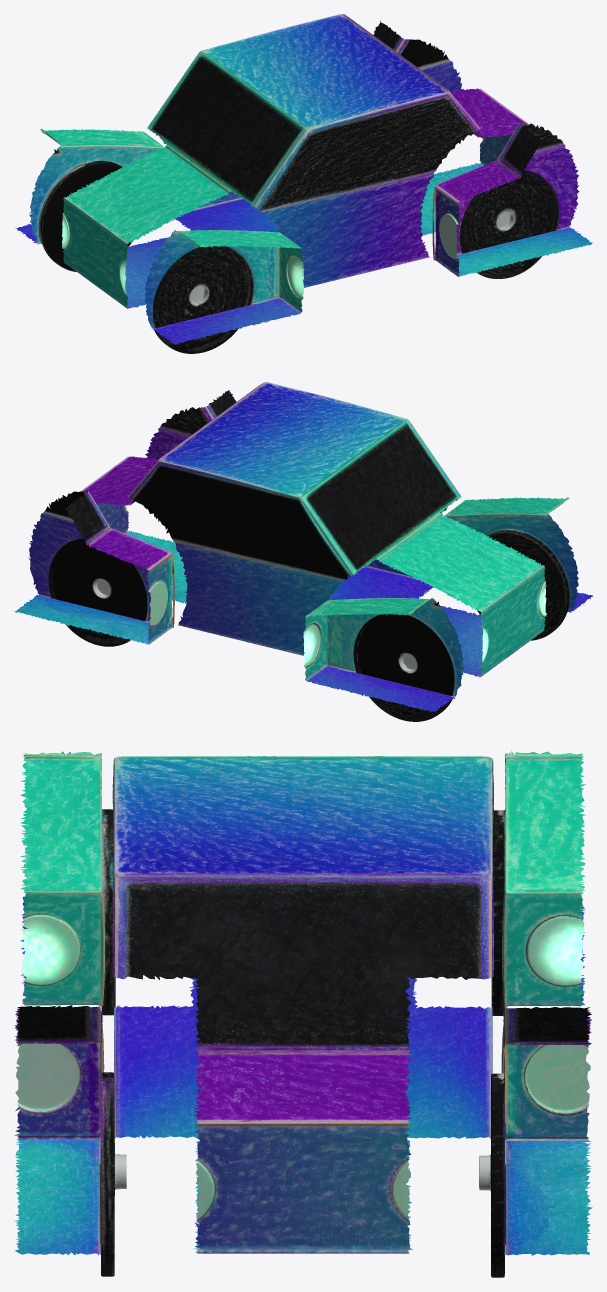
File: starter.glb
3 views of the same model, one above another, from view 1: azimuth 30°, elevation 25°; view 2: azimuth 150°, elevation 25°; view 3: azimuth 270°, elevation 25° (orthographic). The views are drawn at different scales.
Parts seen in each view (by area): view 1: object 1, wheel_0, wheel_2, wheel_3, wheel_1; view 2: object 1, wheel_1, wheel_3, wheel_2, wheel_0; view 3: object 1, wheel_1, wheel_0, wheel_3, wheel_2.
Boxes of the visible parts, bbox=[...] form: object 1: bbox=[62, 14, 529, 308]; wheel_0: bbox=[432, 123, 592, 278]; wheel_2: bbox=[144, 230, 304, 353]; wheel_3: bbox=[15, 128, 164, 271]; wheel_1: bbox=[373, 20, 463, 169]; object 1: bbox=[80, 382, 546, 677]; wheel_1: bbox=[14, 491, 174, 646]; wheel_3: bbox=[303, 598, 464, 721]; wheel_2: bbox=[445, 497, 592, 640]; wheel_0: bbox=[145, 390, 236, 459]; object 1: bbox=[112, 756, 493, 1253]; wheel_1: bbox=[479, 1007, 592, 1277]; wheel_0: bbox=[14, 1005, 126, 1276]; wheel_3: bbox=[491, 751, 586, 1015]; wheel_2: bbox=[20, 751, 115, 1015].
Size of the model in its own units: 1.98 by 0.8576 by 1.3.
1 material, 1 textured.
